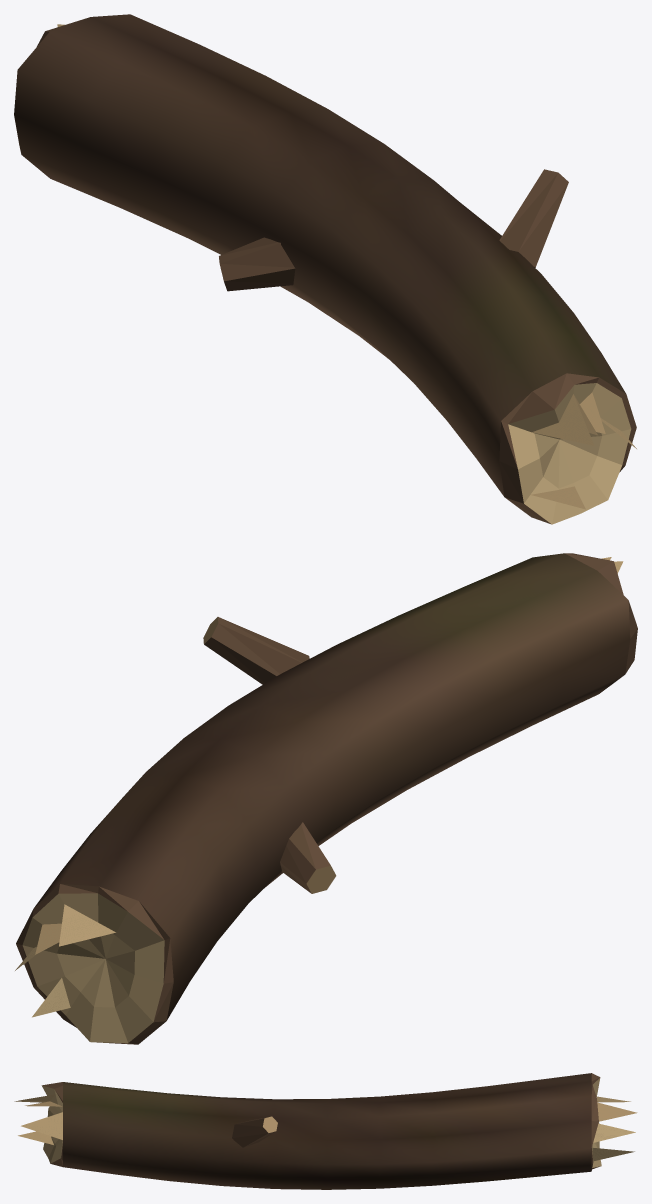
The model's file is log-fallen-b.glb.
The picture shows the model from 3 angles, top to bottom: view 1: azimuth 30°, elevation 25°; view 2: azimuth 150°, elevation 25°; view 3: azimuth 270°, elevation 25°; orthographic projection. The views are drawn at different scales.
Parts seen in each view (by area): view 1: log-fallen-b; view 2: log-fallen-b; view 3: log-fallen-b.
Part boxes in pixels (bbox=[...]): log-fallen-b: bbox=[14, 14, 636, 524]; log-fallen-b: bbox=[15, 553, 637, 1044]; log-fallen-b: bbox=[14, 1073, 637, 1189].
Size of the model in its own units: 0.2591 by 0.168 by 0.9679.
